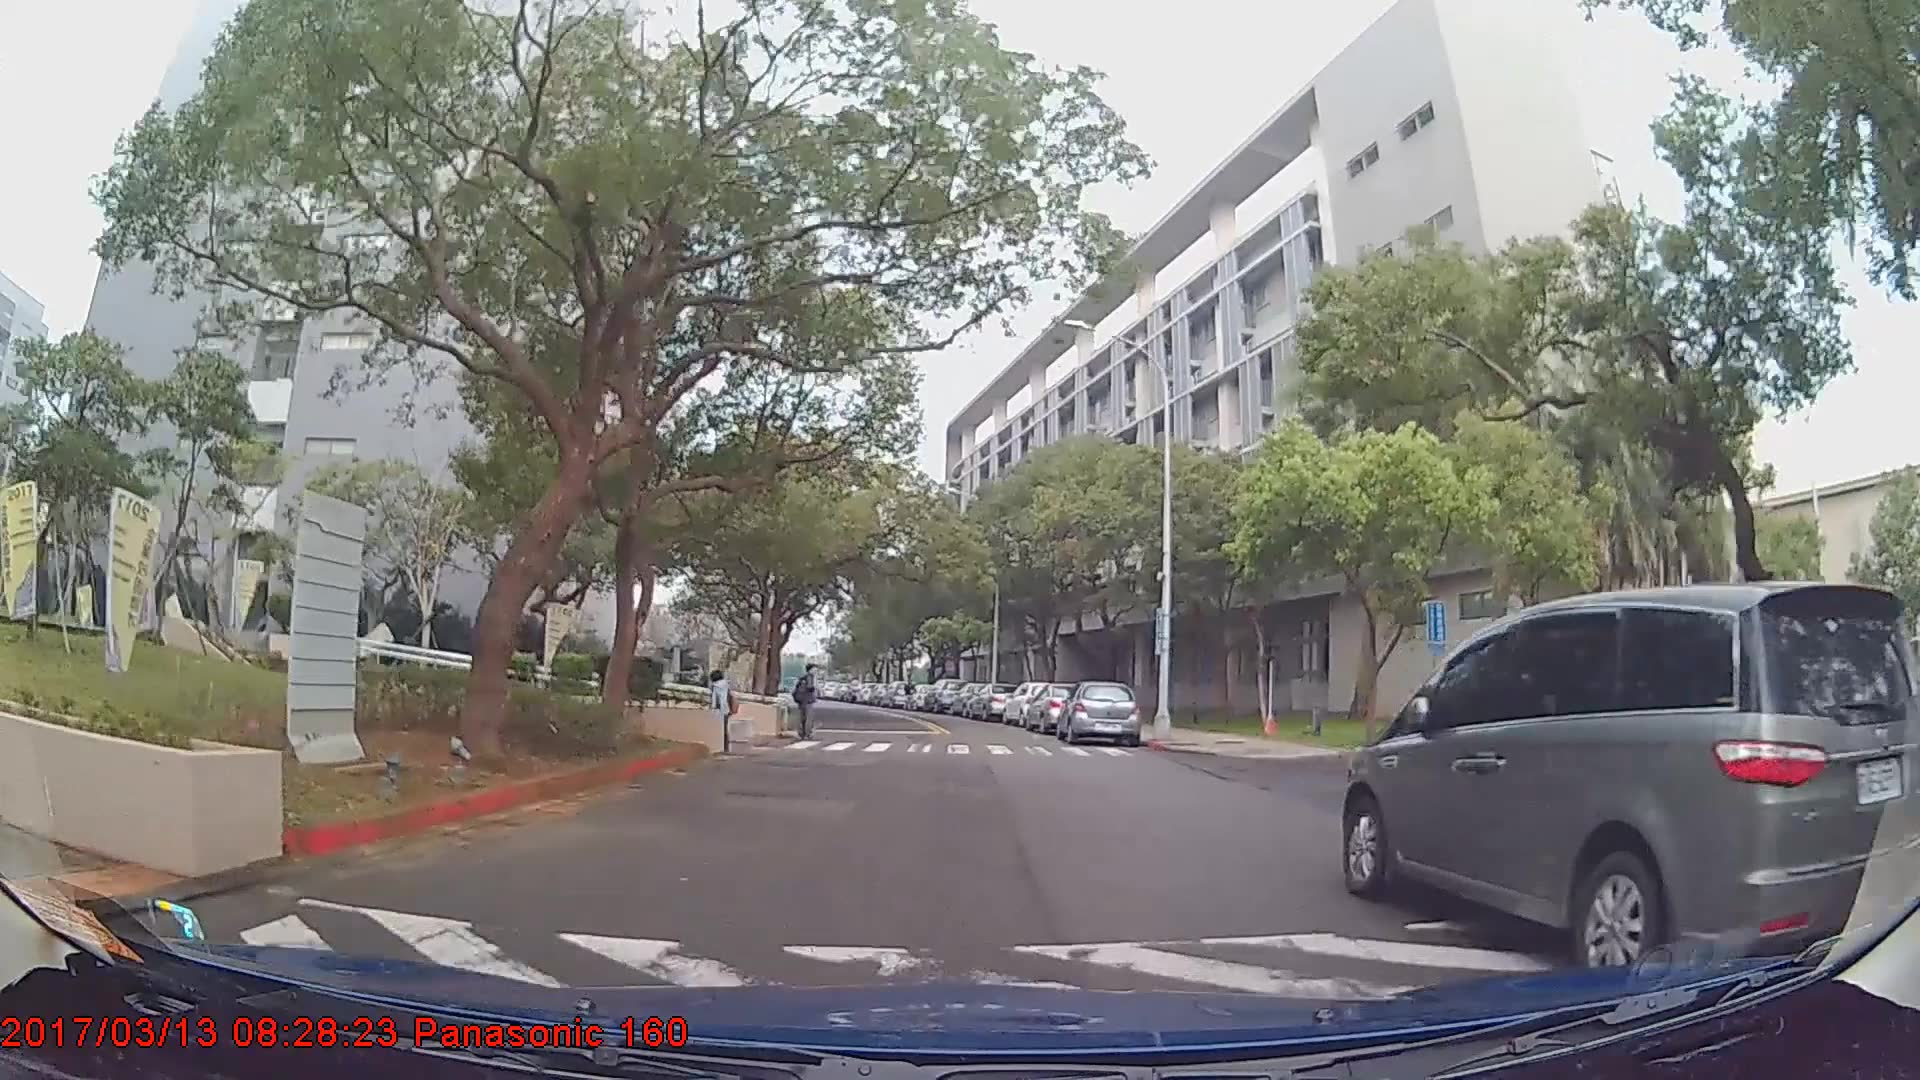pedestrian: (707, 672, 742, 752), (793, 661, 822, 744)
vehicle: (1339, 581, 1920, 990), (1059, 678, 1139, 745), (1019, 679, 1094, 731), (998, 677, 1062, 728), (966, 682, 1013, 719), (922, 677, 964, 712)
